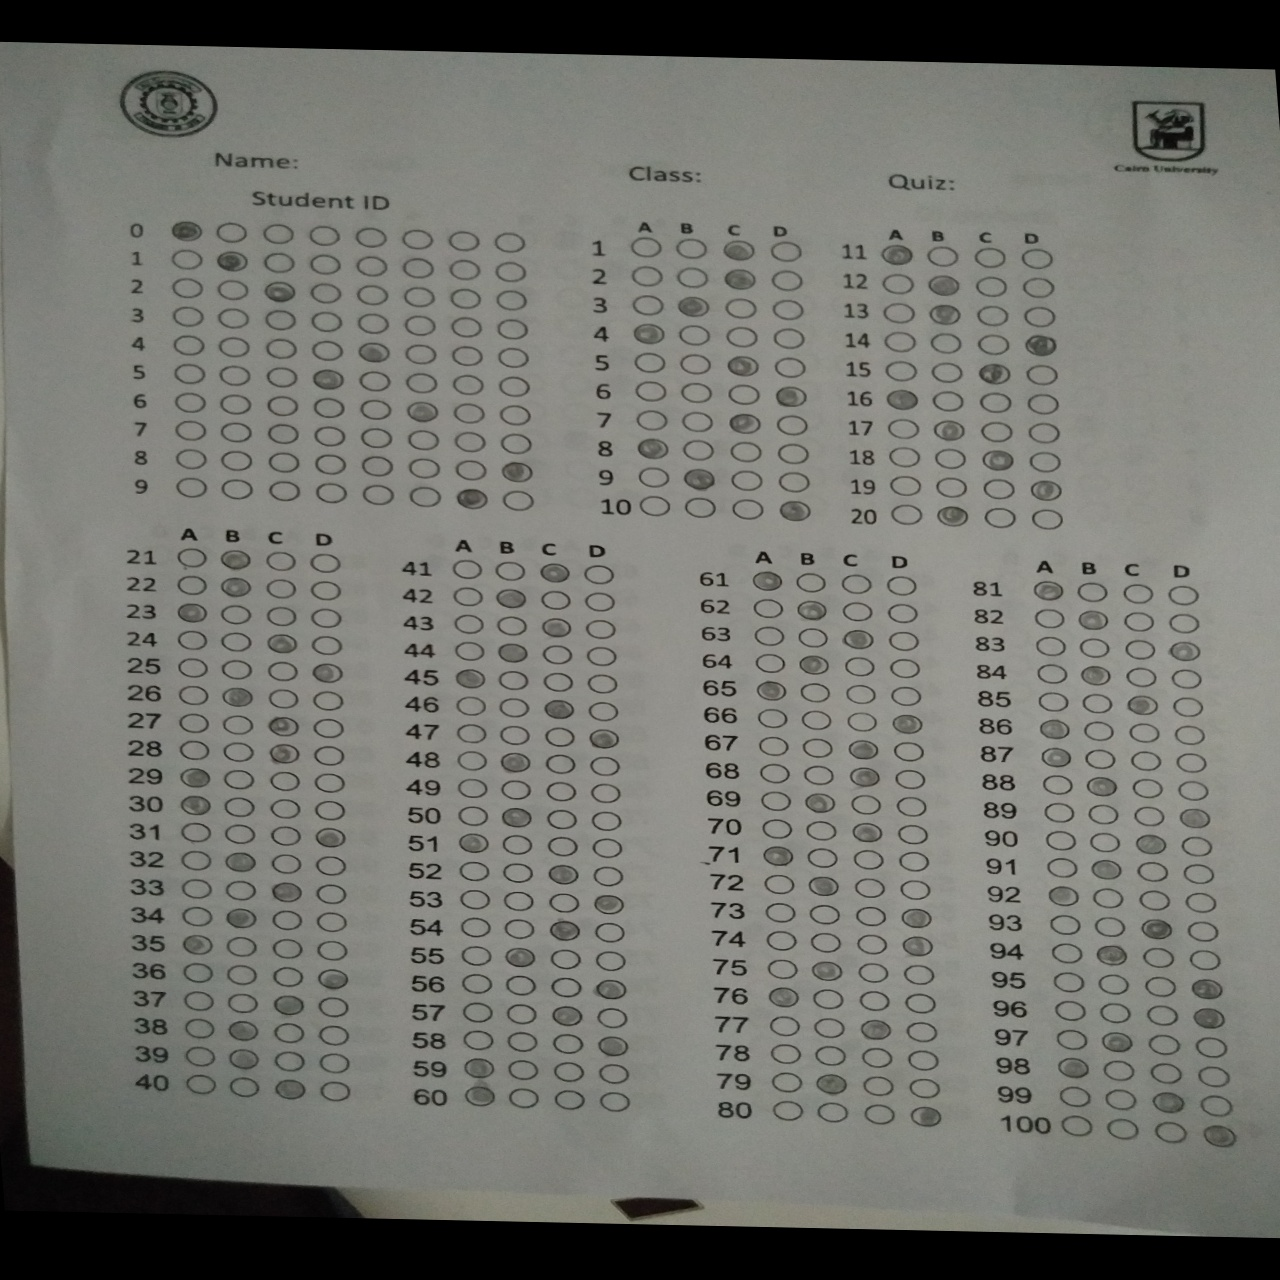not-c: (1099, 1085, 1141, 1112), (166, 275, 207, 300), (631, 408, 672, 433), (302, 551, 343, 576), (445, 373, 486, 397), (211, 277, 251, 301), (399, 285, 438, 309), (670, 265, 710, 290), (767, 238, 806, 263), (257, 251, 297, 275), (888, 503, 928, 527), (309, 481, 349, 505), (359, 482, 399, 506), (263, 449, 302, 474), (216, 448, 256, 472), (401, 428, 441, 452), (400, 313, 440, 338), (305, 338, 345, 362), (583, 700, 622, 724), (790, 571, 830, 595), (215, 629, 254, 654), (260, 604, 300, 628), (629, 350, 670, 374), (302, 309, 343, 333), (765, 268, 806, 292), (350, 254, 392, 278), (726, 468, 767, 491), (309, 395, 350, 418), (628, 264, 667, 288), (772, 442, 811, 467), (723, 324, 762, 348), (931, 445, 969, 470), (1023, 421, 1062, 445), (926, 331, 965, 355), (1020, 305, 1058, 329), (973, 302, 1012, 327), (922, 243, 961, 267), (355, 427, 394, 451), (169, 333, 207, 358), (492, 667, 531, 692), (581, 644, 620, 668), (794, 625, 832, 649), (838, 571, 877, 595), (580, 561, 619, 586), (448, 556, 486, 580), (261, 659, 300, 683), (352, 312, 392, 335), (352, 282, 392, 306), (444, 286, 484, 309), (395, 256, 435, 279), (165, 247, 205, 271), (489, 230, 529, 253), (442, 229, 482, 252), (631, 380, 670, 403), (678, 438, 717, 462), (723, 441, 763, 464), (680, 495, 720, 518), (772, 470, 812, 493), (1024, 450, 1064, 474), (883, 444, 922, 468), (881, 360, 921, 383), (971, 245, 1010, 268), (676, 352, 716, 375), (309, 452, 349, 476), (358, 455, 397, 478), (311, 425, 350, 449), (215, 421, 254, 444), (215, 393, 254, 416), (263, 394, 302, 417), (355, 397, 395, 421), (168, 361, 207, 384), (493, 375, 533, 399), (447, 343, 486, 367), (445, 314, 485, 338), (881, 601, 921, 625), (580, 590, 620, 613), (536, 587, 576, 611), (173, 655, 213, 679), (306, 634, 346, 658), (305, 606, 345, 629), (216, 602, 256, 626), (678, 410, 719, 433), (258, 308, 297, 332), (629, 293, 668, 316), (673, 237, 712, 260), (627, 234, 666, 258), (444, 258, 483, 281), (305, 223, 343, 246), (675, 381, 714, 404), (633, 465, 672, 489), (635, 493, 674, 517), (772, 413, 811, 436), (723, 382, 762, 406), (770, 327, 809, 350), (722, 297, 761, 320), (768, 298, 806, 321), (932, 476, 971, 499), (1028, 508, 1067, 531), (979, 477, 1017, 501), (884, 417, 922, 441), (976, 421, 1015, 444), (927, 361, 966, 384), (1020, 365, 1058, 388), (974, 333, 1013, 356), (879, 301, 918, 325), (878, 272, 917, 295), (493, 318, 532, 341), (675, 324, 714, 347), (264, 478, 302, 502), (749, 624, 788, 647), (404, 457, 443, 481), (173, 476, 212, 499), (172, 447, 211, 470), (169, 418, 207, 442), (451, 458, 490, 482), (496, 431, 535, 455), (496, 403, 535, 427), (449, 402, 488, 425), (401, 370, 440, 394), (539, 670, 578, 694), (584, 672, 622, 695), (538, 642, 577, 666), (581, 618, 620, 641), (881, 576, 920, 599), (448, 612, 486, 635), (489, 559, 527, 583), (307, 579, 346, 602), (263, 577, 301, 600), (542, 779, 580, 803), (452, 749, 491, 772), (549, 1032, 587, 1055), (549, 1088, 587, 1111), (312, 910, 350, 933), (311, 883, 349, 906), (176, 849, 215, 872), (1051, 1028, 1090, 1051), (1122, 665, 1160, 688), (302, 253, 342, 275), (257, 222, 297, 244), (769, 356, 809, 379), (216, 478, 256, 501), (406, 485, 445, 508), (263, 423, 302, 445), (213, 363, 253, 386), (354, 369, 394, 392), (493, 346, 533, 368), (400, 342, 440, 365), (215, 335, 254, 358), (447, 585, 486, 607), (172, 574, 212, 597), (171, 546, 211, 568), (459, 1000, 497, 1023), (497, 489, 535, 512), (266, 824, 304, 847), (266, 797, 304, 821), (454, 804, 491, 828), (585, 782, 622, 805), (452, 721, 490, 744), (218, 714, 256, 737), (499, 917, 537, 940), (544, 890, 581, 913), (499, 888, 537, 912), (587, 863, 625, 886), (182, 1073, 219, 1096), (222, 990, 259, 1014), (267, 937, 305, 960), (220, 878, 258, 901), (176, 876, 213, 899), (1051, 999, 1089, 1022), (1149, 1062, 1186, 1085), (1198, 1094, 1235, 1117), (1099, 1058, 1137, 1082), (812, 1099, 850, 1123), (858, 1074, 896, 1097), (905, 1048, 942, 1071), (903, 1021, 940, 1044), (810, 988, 847, 1012), (852, 933, 890, 956), (765, 1014, 803, 1037), (1041, 829, 1078, 852), (755, 707, 792, 730), (892, 795, 930, 818), (888, 740, 926, 763), (1039, 801, 1076, 824), (756, 762, 794, 785), (1083, 748, 1121, 771), (1040, 772, 1077, 796), (892, 823, 930, 846), (897, 878, 934, 901), (1178, 836, 1216, 859), (1182, 892, 1219, 915), (1094, 973, 1131, 996), (851, 876, 888, 899), (1170, 694, 1207, 717), (1167, 667, 1205, 690), (1121, 610, 1158, 633), (212, 307, 251, 329), (305, 281, 343, 304), (169, 305, 207, 327), (490, 288, 529, 311), (490, 261, 529, 284), (349, 226, 388, 248), (212, 222, 251, 244), (728, 498, 767, 520), (886, 474, 925, 496), (980, 506, 1019, 529), (1024, 393, 1063, 415), (976, 392, 1015, 414), (880, 331, 919, 353), (1019, 275, 1057, 298), (260, 365, 299, 387), (170, 392, 209, 414), (450, 430, 489, 452), (258, 338, 297, 360), (448, 639, 486, 661), (884, 629, 922, 652), (837, 600, 876, 622), (748, 597, 787, 619), (490, 614, 529, 636), (217, 658, 256, 680), (173, 628, 212, 651), (261, 550, 300, 572), (309, 743, 348, 765), (173, 738, 212, 761), (543, 835, 581, 857), (584, 756, 622, 778), (503, 1002, 542, 1024), (502, 1030, 540, 1053), (550, 1061, 588, 1083), (591, 949, 629, 972), (223, 1076, 261, 1098), (181, 1044, 219, 1067), (222, 964, 260, 986), (311, 939, 349, 961), (1184, 920, 1223, 942), (1047, 914, 1085, 937), (1184, 948, 1223, 971), (1033, 662, 1071, 685), (220, 796, 257, 819), (220, 740, 257, 763), (587, 835, 624, 858), (452, 693, 489, 716), (263, 687, 299, 710), (502, 974, 538, 998), (505, 1085, 542, 1109), (595, 1090, 632, 1114), (593, 1007, 629, 1030), (547, 947, 584, 971), (271, 1049, 307, 1073), (268, 965, 305, 988), (458, 972, 495, 995), (1043, 856, 1080, 879), (1152, 1121, 1189, 1144), (860, 1103, 897, 1126), (805, 931, 842, 954), (1084, 831, 1121, 855), (1084, 803, 1121, 826), (894, 850, 931, 873), (806, 903, 843, 926), (1163, 611, 1199, 634), (1032, 634, 1068, 658), (1030, 606, 1067, 629), (972, 275, 1012, 297), (220, 823, 258, 845), (177, 821, 215, 843), (309, 799, 347, 822), (266, 770, 304, 792), (497, 832, 535, 855), (586, 810, 624, 832), (544, 808, 581, 830), (539, 753, 577, 775), (452, 777, 490, 799), (539, 726, 577, 748), (496, 696, 533, 719), (175, 712, 212, 734), (459, 1029, 497, 1051), (457, 944, 495, 966), (591, 921, 628, 944), (179, 1017, 217, 1040), (268, 1022, 306, 1044), (181, 989, 218, 1012), (314, 995, 352, 1017), (222, 935, 259, 958), (177, 905, 215, 927), (268, 908, 306, 931), (858, 1046, 896, 1068), (809, 1016, 846, 1039), (900, 992, 938, 1014), (855, 989, 892, 1012), (899, 964, 937, 986), (767, 1043, 804, 1065), (768, 1070, 805, 1092), (755, 734, 792, 756), (796, 737, 833, 760), (891, 768, 928, 790), (1170, 750, 1207, 772), (1126, 750, 1164, 772), (1080, 721, 1117, 743), (1128, 777, 1165, 799), (760, 818, 797, 840), (845, 792, 883, 815), (1048, 941, 1085, 964), (1141, 947, 1178, 969), (1142, 976, 1179, 999), (803, 847, 840, 870), (850, 905, 887, 927), (760, 873, 797, 896), (840, 655, 878, 678), (1121, 636, 1158, 659), (1118, 581, 1156, 604), (1074, 580, 1111, 602), (842, 709, 879, 731), (794, 682, 831, 704), (1193, 1035, 1228, 1058), (1050, 971, 1085, 994), (397, 229, 436, 250), (1019, 247, 1057, 268), (495, 724, 533, 745), (175, 685, 213, 706), (452, 860, 491, 881), (220, 768, 257, 790), (498, 778, 535, 801), (308, 716, 345, 738), (308, 689, 345, 712), (505, 1058, 542, 1081), (595, 1063, 632, 1085), (457, 915, 493, 938), (456, 888, 492, 911), (316, 1080, 353, 1102), (314, 1051, 350, 1074), (179, 961, 216, 983), (268, 852, 305, 874), (1099, 1002, 1136, 1024), (1145, 1005, 1182, 1027), (1146, 1033, 1183, 1055), (1056, 1084, 1092, 1107), (1058, 1115, 1095, 1137), (906, 1077, 942, 1099), (855, 961, 891, 983), (763, 928, 799, 951), (764, 958, 801, 980), (770, 1099, 806, 1122), (798, 709, 835, 731), (1133, 805, 1170, 828), (1173, 778, 1210, 801), (757, 789, 794, 811), (849, 847, 885, 870), (1179, 863, 1216, 885), (1090, 887, 1126, 910), (1138, 888, 1175, 911), (1090, 914, 1126, 937), (763, 901, 799, 924), (1080, 692, 1116, 714), (1164, 584, 1200, 606), (887, 685, 924, 707), (887, 658, 924, 680), (930, 390, 967, 411), (309, 772, 347, 794), (546, 976, 584, 998), (498, 862, 536, 883), (1194, 1065, 1232, 1087), (1170, 726, 1207, 747), (1034, 690, 1071, 712), (801, 821, 838, 842), (1133, 862, 1171, 883), (749, 651, 787, 672), (1074, 636, 1111, 658), (842, 685, 879, 706), (1107, 1118, 1142, 1141), (799, 764, 835, 787), (1126, 722, 1162, 744), (314, 1024, 350, 1046), (313, 855, 349, 876), (812, 1044, 849, 1065)
taken-c: (263, 741, 302, 765), (1044, 881, 1082, 907), (721, 238, 760, 263), (309, 367, 348, 392), (748, 568, 787, 593), (679, 467, 717, 491), (979, 448, 1017, 472), (751, 679, 790, 703), (1074, 607, 1112, 632), (796, 652, 835, 676), (760, 844, 798, 869), (224, 1019, 263, 1043), (544, 862, 583, 886), (1148, 1090, 1186, 1115), (1054, 1055, 1092, 1080), (1189, 1006, 1227, 1030), (215, 574, 253, 599), (263, 714, 301, 738), (176, 792, 215, 817), (896, 906, 935, 930), (402, 399, 440, 423), (211, 248, 248, 273), (722, 353, 760, 377), (1022, 333, 1060, 358), (888, 712, 926, 736), (586, 726, 624, 750), (451, 666, 489, 690), (1124, 692, 1162, 716), (794, 598, 831, 622), (1138, 915, 1176, 940), (267, 992, 305, 1016), (225, 1047, 263, 1071), (593, 1033, 631, 1057), (905, 1104, 942, 1129), (858, 1017, 896, 1042), (764, 986, 802, 1010), (222, 850, 259, 874), (721, 267, 760, 291), (452, 486, 491, 510), (496, 459, 535, 483), (775, 499, 813, 523), (727, 411, 765, 435), (629, 321, 668, 345), (932, 504, 971, 527), (930, 418, 968, 442), (884, 388, 922, 411), (925, 302, 964, 326), (1176, 806, 1214, 830), (802, 790, 840, 813), (495, 750, 533, 774), (539, 697, 578, 721), (535, 560, 573, 584), (1082, 774, 1121, 797), (1040, 745, 1078, 769), (1088, 858, 1126, 881), (452, 831, 491, 855), (496, 806, 535, 830), (501, 945, 539, 968), (544, 919, 583, 942), (591, 892, 629, 915), (806, 959, 845, 982), (898, 933, 937, 956), (263, 632, 301, 655), (176, 765, 215, 789), (311, 825, 349, 849), (166, 219, 204, 243), (356, 341, 394, 365), (261, 279, 299, 302), (633, 437, 670, 461), (926, 273, 964, 297), (878, 241, 915, 265), (1132, 832, 1170, 856), (845, 764, 883, 788), (844, 738, 881, 762), (491, 641, 529, 665), (1037, 717, 1075, 741), (1076, 663, 1114, 687), (1165, 639, 1203, 662), (1029, 579, 1067, 602), (265, 879, 302, 903), (222, 906, 259, 930), (178, 933, 216, 956), (313, 968, 350, 992), (272, 1077, 309, 1101), (459, 1084, 497, 1108), (459, 1056, 497, 1080), (551, 1002, 588, 1026), (1189, 978, 1226, 1001), (1092, 942, 1130, 966), (308, 661, 346, 685), (217, 685, 254, 708), (673, 294, 712, 316), (537, 617, 576, 639), (591, 978, 629, 1000), (217, 547, 256, 570), (847, 821, 884, 844), (1199, 1124, 1235, 1148), (771, 384, 809, 407), (1028, 479, 1065, 502), (975, 362, 1013, 384), (491, 587, 529, 610), (838, 628, 876, 651), (811, 1073, 849, 1095), (1099, 1030, 1137, 1053), (805, 874, 843, 897), (172, 600, 210, 622)
